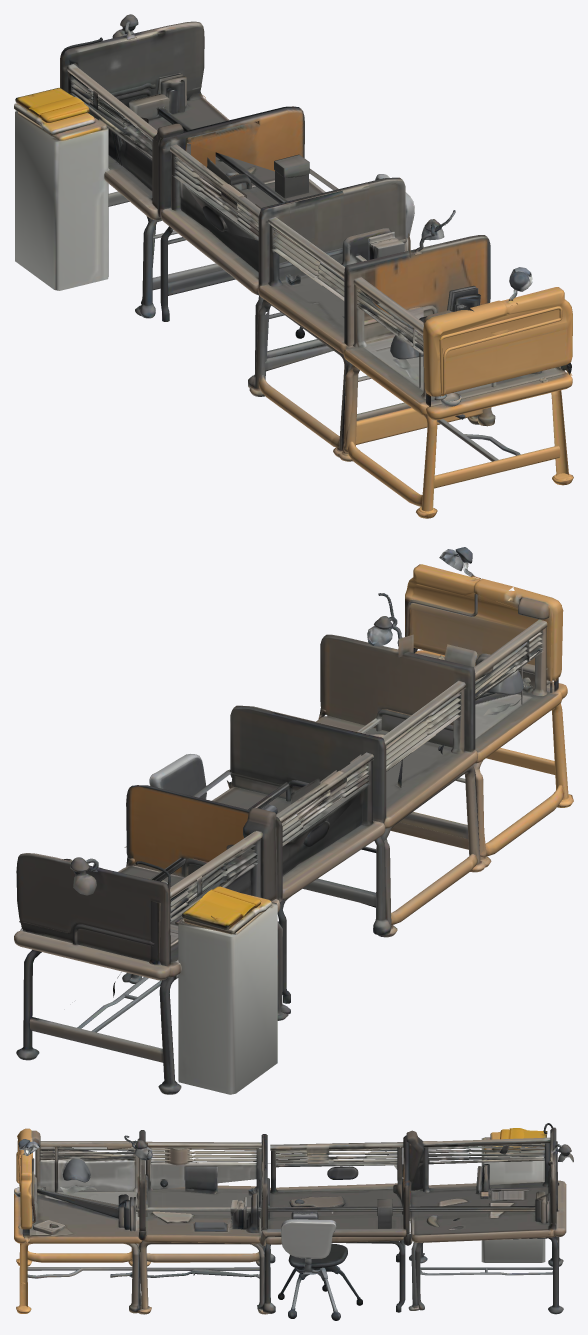
File: toonstudio_study_desk.glb
3 views of the same model, one above another, from view 1: azimuth 30°, elevation 25°; view 2: azimuth 150°, elevation 25°; view 3: azimuth 270°, elevation 25° (orthographic). The views are drawn at different scales.
Visible parts, largest first — view 1: f4cf6c3f_63fa_43bc_b509_72b68e4df4f6; view 2: f4cf6c3f_63fa_43bc_b509_72b68e4df4f6; view 3: f4cf6c3f_63fa_43bc_b509_72b68e4df4f6.
Part boxes in pixels (box(x1,y1,x2,y2)): f4cf6c3f_63fa_43bc_b509_72b68e4df4f6: box(14, 14, 573, 518); f4cf6c3f_63fa_43bc_b509_72b68e4df4f6: box(14, 547, 573, 1094); f4cf6c3f_63fa_43bc_b509_72b68e4df4f6: box(14, 1123, 573, 1320).
Bounding box in the file's own units: 1.01 × 0.9658 × 3.
1 material, 1 textured.
